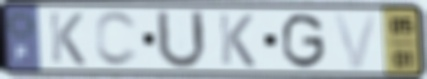C: (92, 9, 142, 69)
G: (280, 11, 328, 71)
K: (46, 10, 88, 68), (216, 12, 258, 69)
U: (154, 7, 210, 72)
V: (330, 11, 382, 71)
